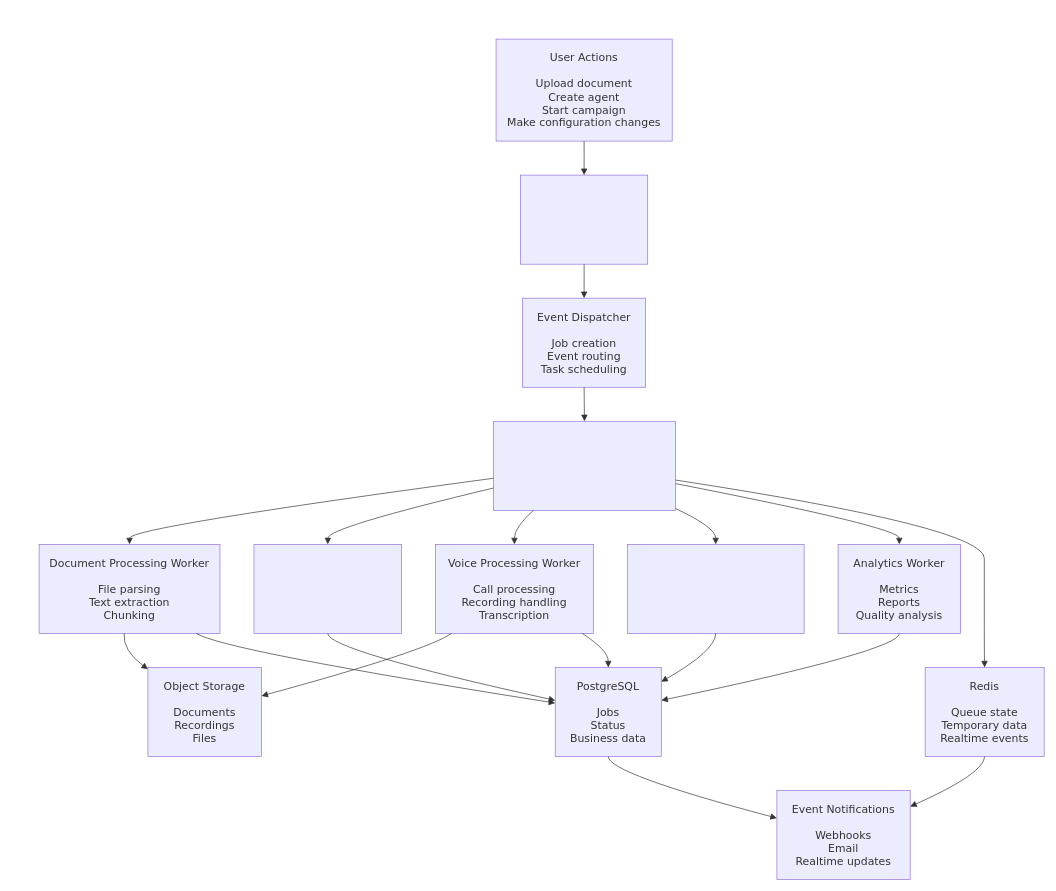
Image size: 1056x891. Some labels were removed from this diagram. The shapes that lost their labels are listed below. From the top down, each one's box as (x1, y1, x2, y2) in pixels, then its label:
(520, 174, 648, 264): FastAPI Backend Receives requests Creates jobs Publishes events
(493, 421, 676, 510): Message Queue / Task Broker Redis Queue Celery / RQ / Kafka Async processing
(253, 544, 402, 633): Embedding Worker Generate embeddings Vector indexing Knowledge updates
(627, 544, 804, 633): Outbound Campaign Worker Dialing queue Call scheduling Retries
